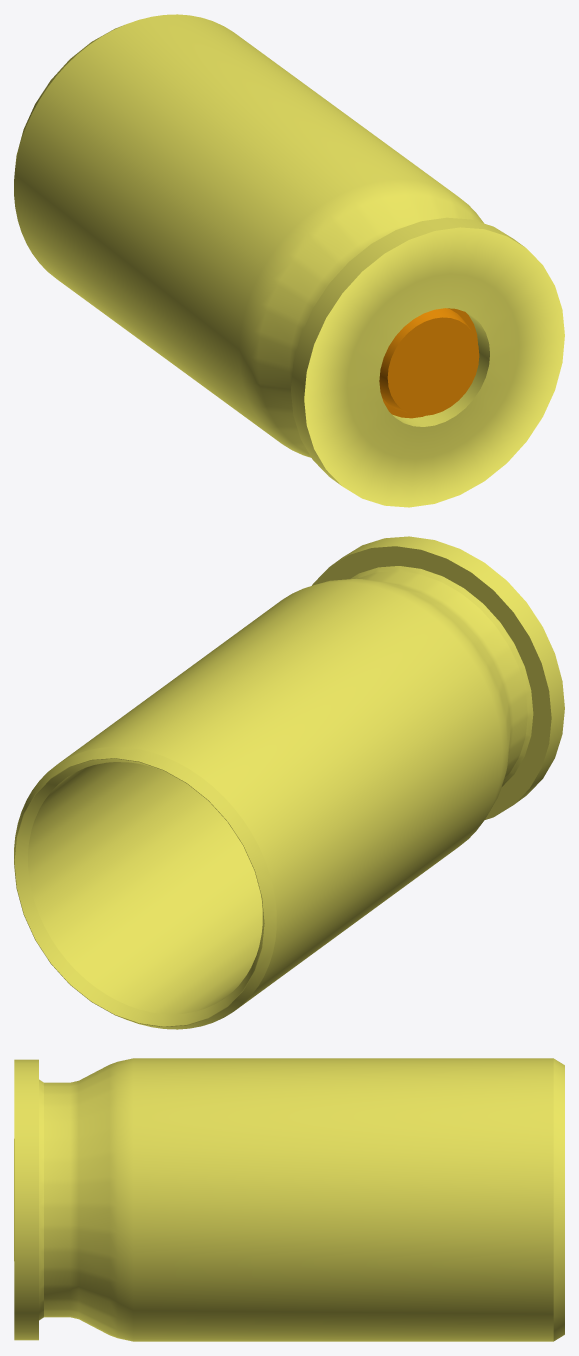
Rendered from 9mmCasing 1.fbx.
3 renders of one model, top to bottom at view 1: azimuth 30°, elevation 25°; view 2: azimuth 150°, elevation 25°; view 3: azimuth 270°, elevation 25°, orthographic. The views are drawn at different scales.
Visible parts, largest first — view 1: Casing; view 2: Casing; view 3: Casing.
Boxes of the visible parts, bbox=[...] form: Casing: bbox=[14, 14, 564, 507]; Casing: bbox=[14, 536, 564, 1029]; Casing: bbox=[14, 1058, 564, 1341].
Bounding box in the file's own units: 1 × 1 × 1.95.
